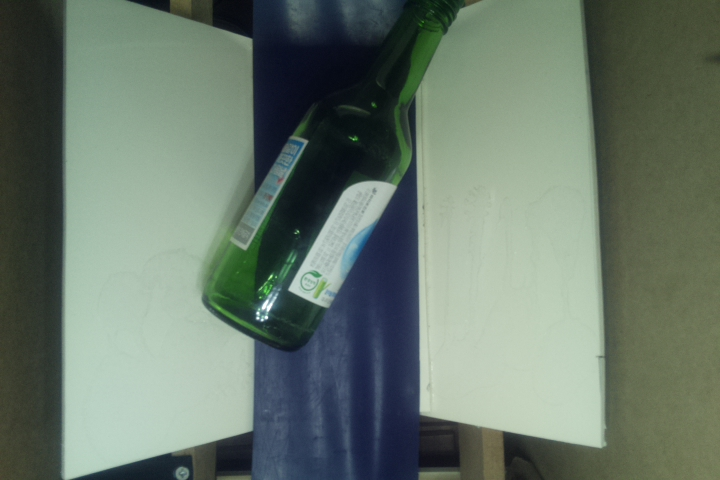soju: (202, 1, 469, 353)
